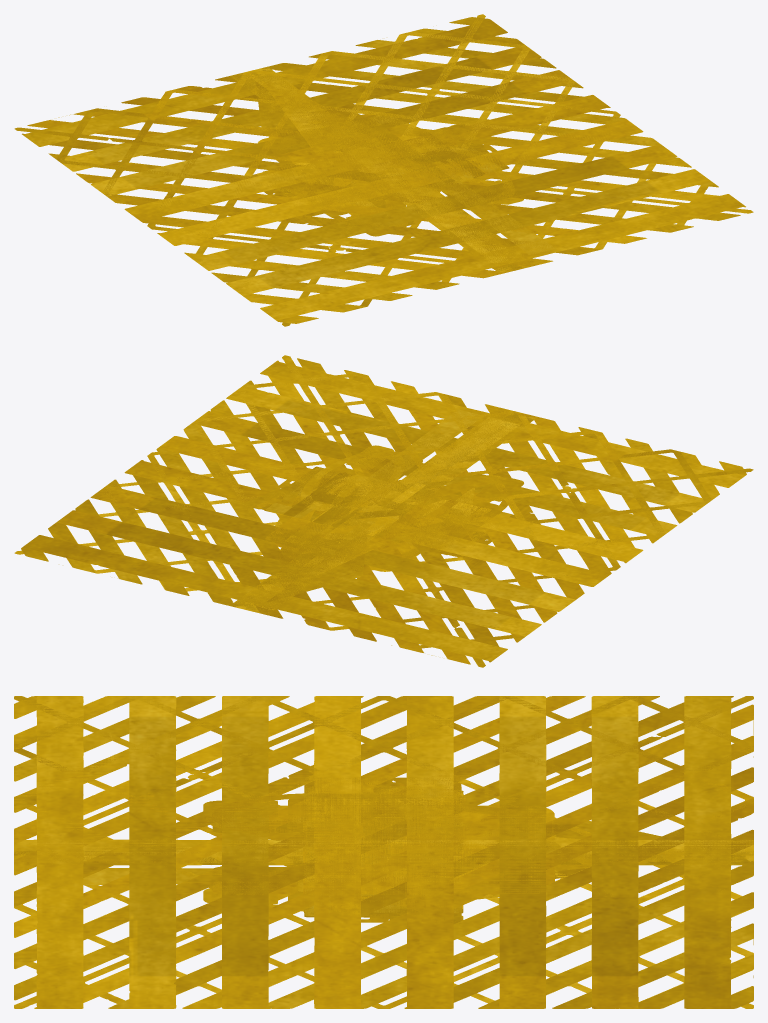
File: RoadLines_01.fbx
The picture shows the model from 3 angles, top to bottom: view 1: azimuth 30°, elevation 25°; view 2: azimuth 150°, elevation 25°; view 3: azimuth 270°, elevation 25°; orthographic projection. The views are drawn at different scales.
Parts seen in each view (by area): view 1: RoadLine_Crossing, RoadLine_Diagonals, RoadLine_Grid, RoadLine_Arrow_Turn, RoadLine_Arrow_Straight, RoadLine_Dashes_Bold, RoadLine_Arrow_TurnStraight, RoadLine_Car, RoadLine_Bike, RoadLine_txt_KMH, RoadLine_Gregory, RoadLine_txt_Only (+4 smaller); view 2: RoadLine_Crossing, RoadLine_Diagonals, RoadLine_Grid, RoadLine_Arrow_Turn, RoadLine_Car, RoadLine_Arrow_TurnStraight, RoadLine_Rumble_Slash, RoadLine_Bike, RoadLine_Dashes_Bold, RoadLine_Arrow_Straight, RoadLine_txt_KMH, RoadLine_Truck (+10 smaller); view 3: RoadLine_Crossing, RoadLine_Diagonals, RoadLine_Grid, RoadLine_Truck, RoadLine_Car, RoadLine_Gregory, RoadLine_Solid_Bold, RoadLine_Bike, RoadLine_txt_Left, RoadLine_Arrow_TurnStraight, RoadLine_txt_Right, RoadLine_Arrow_Turn (+8 smaller).
Boxes of the visible parts, x1,y1,x2,y2 form: RoadLine_Crossing: (23,20,745,325); RoadLine_Diagonals: (22,17,751,323); RoadLine_Grid: (14,14,753,326); RoadLine_Arrow_Turn: (256,82,555,254); RoadLine_Arrow_Straight: (262,81,514,263); RoadLine_Dashes_Bold: (237,71,527,269); RoadLine_Arrow_TurnStraight: (266,80,523,260); RoadLine_Car: (269,115,523,236); RoadLine_Bike: (293,119,514,220); RoadLine_txt_KMH: (317,132,484,201); RoadLine_Gregory: (305,123,500,230); RoadLine_txt_Only: (290,128,485,209); RoadLine_Crossing: (22,361,744,666); RoadLine_Diagonals: (21,356,746,664); RoadLine_Grid: (14,355,753,667); RoadLine_Arrow_Turn: (267,409,482,601); RoadLine_Car: (270,445,523,566); RoadLine_Arrow_TurnStraight: (258,417,514,598); RoadLine_Rumble_Slash: (231,413,536,612); RoadLine_Bike: (285,450,507,558); RoadLine_Dashes_Bold: (237,413,530,609); RoadLine_Arrow_Straight: (264,418,519,598); RoadLine_txt_KMH: (283,473,434,549); RoadLine_Truck: (265,457,491,571); RoadLine_Crossing: (15,696,753,1008); RoadLine_Diagonals: (14,696,753,1008); RoadLine_Grid: (14,696,753,1008); RoadLine_Truck: (212,805,554,894); RoadLine_Car: (203,793,542,903); RoadLine_Gregory: (206,817,561,891); RoadLine_Solid_Bold: (14,840,753,865); RoadLine_Bike: (211,793,556,911); RoadLine_txt_Left: (306,798,463,908); RoadLine_Arrow_TurnStraight: (48,806,712,877); RoadLine_txt_Right: (302,786,463,923); RoadLine_Arrow_Turn: (83,820,661,884).
Size of the model in its own units: 66.67 by 0 by 66.67.
